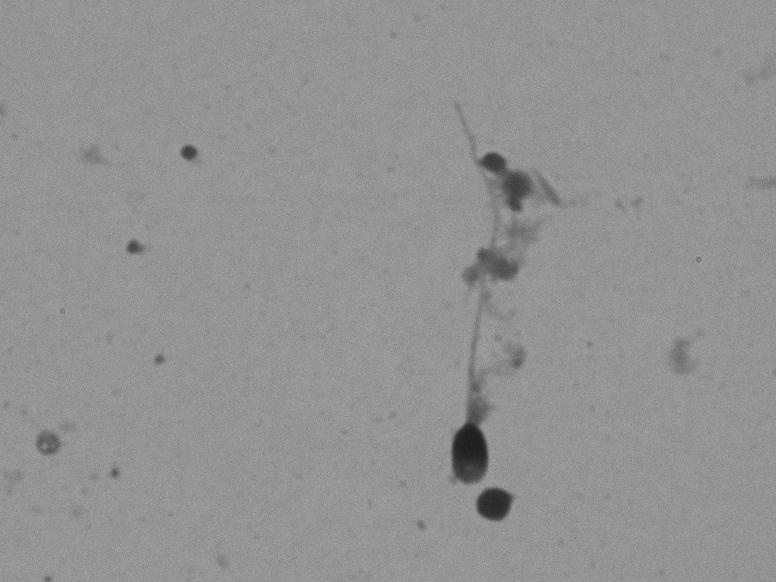Abnormal: (402, 85, 528, 489)
